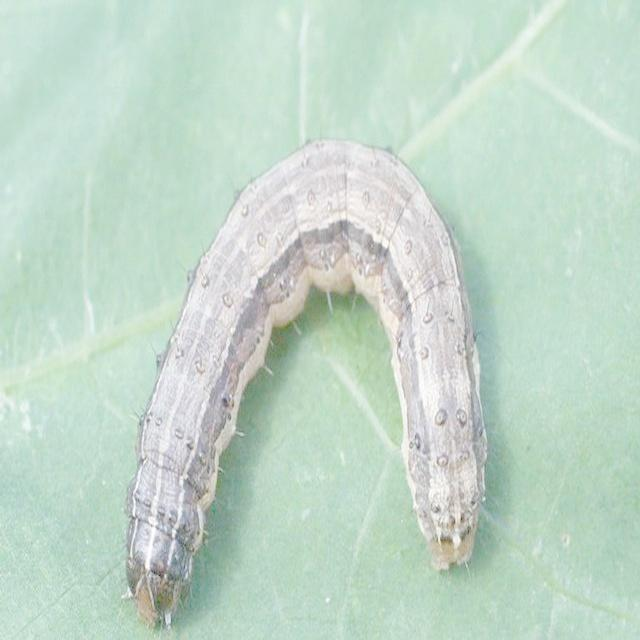gusano_cogollero: (112, 134, 490, 638)
